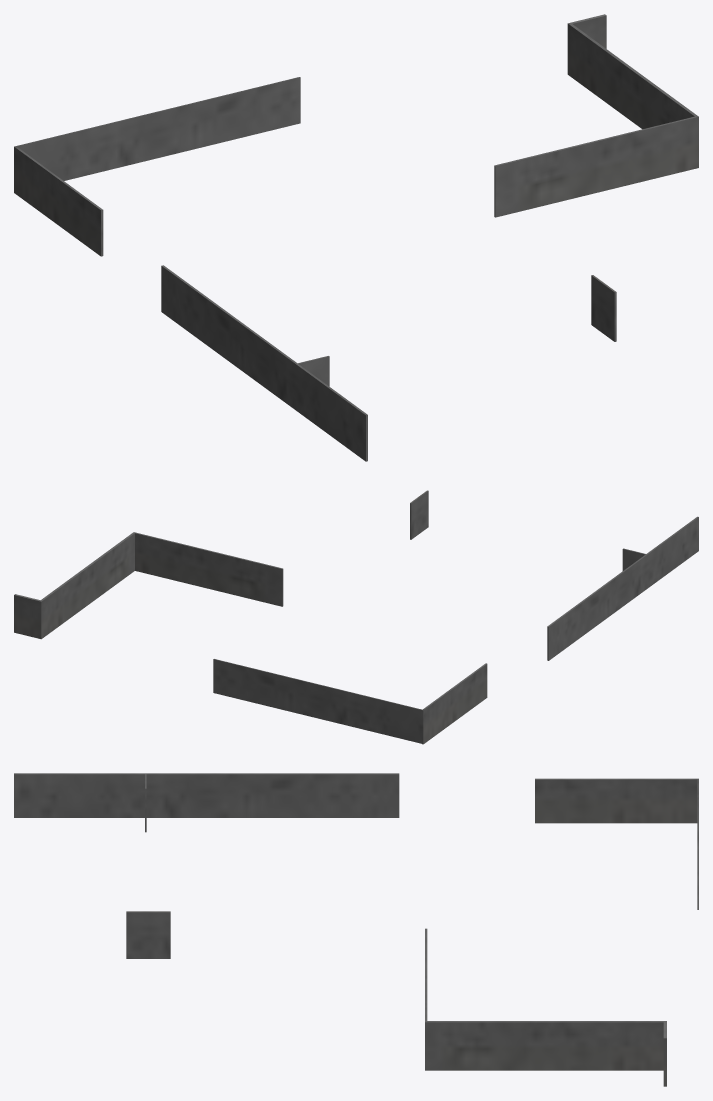
File: MurosBeco.fbx
3 renders of one model, top to bottom at view 1: azimuth 30°, elevation 25°; view 2: azimuth 150°, elevation 25°; view 3: azimuth 270°, elevation 25°, orthographic. The views are drawn at different scales.
Visible parts, largest first — view 1: Plane.006; view 2: Plane.006; view 3: Plane.006.
Part boxes in pixels (bbox=[...]): Plane.006: bbox=[14, 14, 698, 461]; Plane.006: bbox=[14, 490, 698, 744]; Plane.006: bbox=[14, 773, 698, 1086].
Bounding box in the file's own units: 6798 × 569 × 7307.
Materials: 1 (1 with a texture image).
